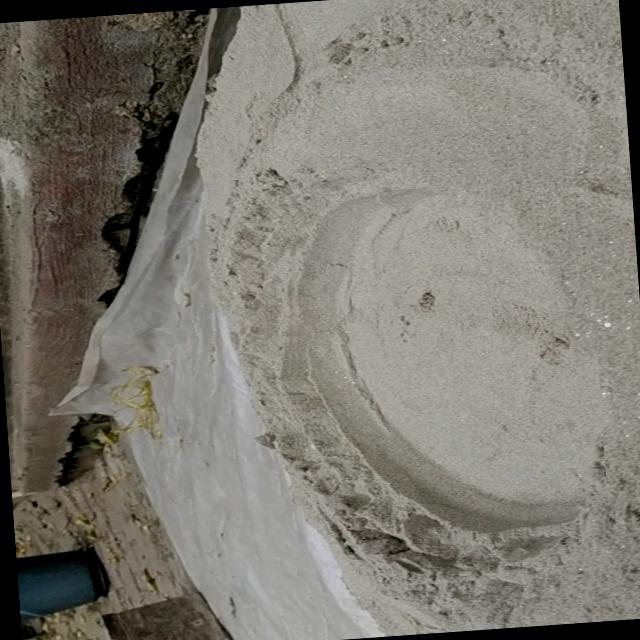C40: (290, 187, 602, 535)
